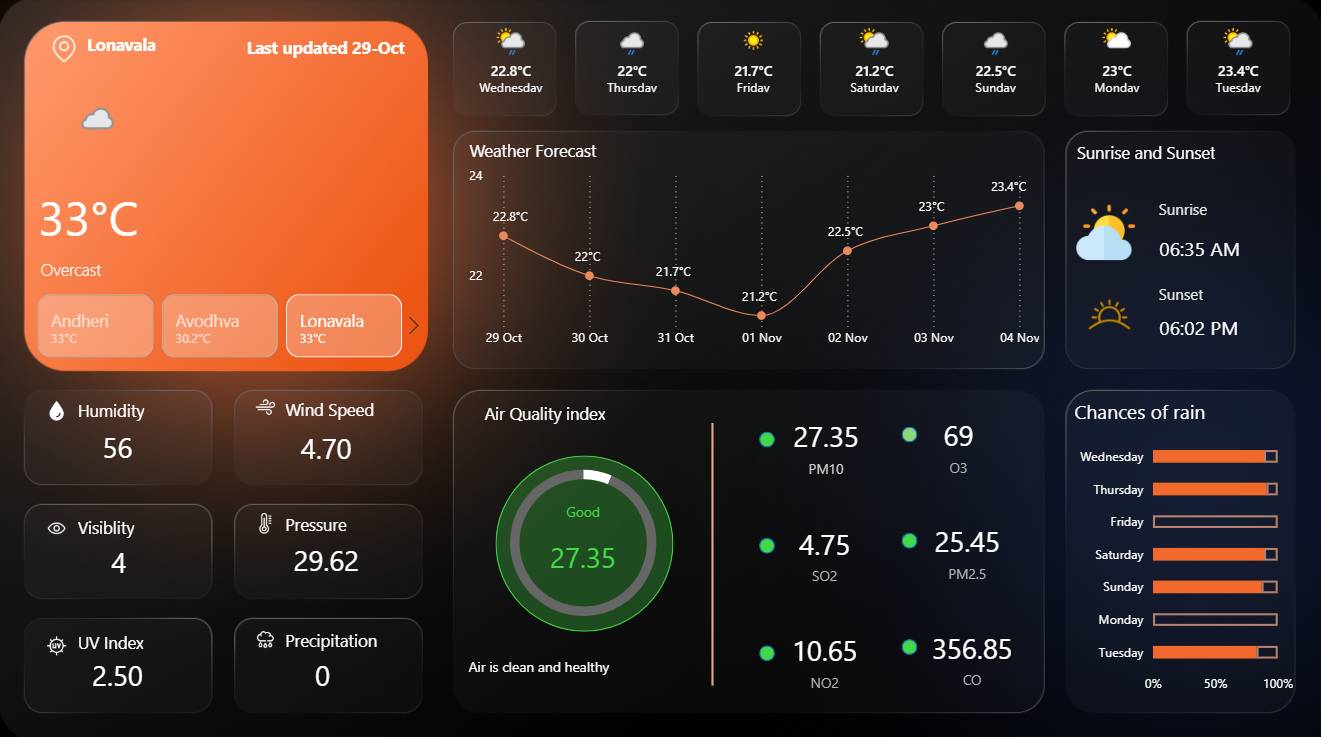

The dashboard page shown, as its layout file describes it:
{"tool":"powerbi","page":{"name":"Orange","canvas":[1280,720],"ordinal":0},"visuals":[{"type":"shape","box":[480,441.7,171.7,170],"z":0},{"type":"donutChart","fields":{"Y":["Sum(Current data.current.air_quality.pm10)","_Measures.Left_pm10"]},"box":[471.7,431.7,186.7,188.3],"z":1000},{"type":"advancedSlicerVisual","fields":{"Values":["City.location.name"]},"box":[13.3,281.7,403.3,71.7],"z":2000},{"type":"shape","box":[33.3,173.3,163.3,71.7],"z":3000},{"type":"shape","box":[38.3,248.3,371.7,33.3],"z":4000},{"type":"shape","box":[83.3,31.7,103.3,36.7],"z":5000},{"type":"shape","box":[213.3,33.3,181.7,35],"z":6000},{"type":"image","box":[45,31.7,38.3,35],"z":7000},{"type":"cardVisual","fields":{"Data":["Min(Current data.current.condition.icon)"]},"box":[11.7,76.7,123.3,120],"z":8000},{"type":"image","box":[1035,193.3,68.3,66.7],"z":9000},{"type":"image","box":[33.3,383.3,45,30],"z":10000},{"type":"image","box":[235,605,45,30],"z":11000},{"type":"image","box":[1038.3,273.3,68.3,63.3],"z":12000},{"type":"image","box":[235,492.5,45,30],"z":13000},{"type":"image","box":[33.3,610,45,30],"z":14000},{"type":"image","box":[33.3,496.7,45,30],"z":15000},{"type":"image","box":[235,380,45,30],"z":16000},{"type":"shape","box":[75,385,123.3,28.3],"z":17000},{"type":"shape","box":[275,383.3,123.3,28.3],"z":18000},{"type":"shape","box":[75,496.7,123.3,28.3],"z":19000},{"type":"shape","box":[275,495,123.3,28.3],"z":20000},{"type":"shape","box":[75,608.3,123.3,28.3],"z":21000},{"type":"shape","box":[275,606.7,123.3,28.3],"z":22000},{"type":"cardVisual","fields":{"Data":["Sum(Current data.current.humidity)"]},"box":[33.3,383.3,163.3,90],"z":23000},{"type":"cardVisual","fields":{"Data":["Sum(Current data.current.wind_kph)"]},"box":[235,385,163.3,90],"z":24000},{"type":"cardVisual","fields":{"Data":["Sum(Current data.current.vis_km)"]},"box":[35,495,163.3,90],"z":25000},{"type":"cardVisual","fields":{"Data":["Sum(Current data.current.pressure_in)"]},"box":[235,493.3,163.3,90],"z":26000},{"type":"cardVisual","fields":{"Data":["Sum(Current data.current.uv)"]},"box":[33.3,605,163.3,90],"z":27000},{"type":"cardVisual","fields":{"Data":["Sum(Current data.current.precip_in)"]},"box":[231.7,605,163.3,90],"z":28000},{"type":"advancedSlicerVisual","fields":{"Values":["Forcast Day.Day_Forcast"]},"box":[435,18.3,823.3,91.7],"z":29000},{"type":"lineChart","title":"Weather Forecast","fields":{"Y":["Sum(Forcast Day.forecast.forecastday.day.avgtemp_c)"],"Category":["Forcast Day.forecast.forecastday.date.Variation.Date Hierarchy.Day"]},"box":[450,136.7,560,210],"z":30000},{"type":"shape","box":[1118.3,226.7,140,33.3],"z":31000},{"type":"shape","box":[1118.3,303.3,140,33],"z":32000},{"type":"shape","box":[1038.3,135,191.7,35],"z":33000},{"type":"shape","box":[1118.3,273.3,140,25],"z":34000},{"type":"shape","box":[1118.3,191.7,140,25],"z":35000},{"type":"hundredPercentStackedBarChart","title":"Chances of rain","fields":{"Y":["Sum(Forcast Day.forecast.forecastday.day.daily_chance_of_rain)","_Measures.Left_Chances_Rain"],"Category":["Forcast Day.Day_Forcast"]},"box":[1034.3,386.4,221.4,294.3],"z":36000},{"type":"card","fields":{"Values":["Sum(Current data.current.air_quality.o3)"]},"box":[875,391.7,105,80],"z":37000},{"type":"card","fields":{"Values":["Sum(Current data.current.air_quality.pm10)"]},"box":[746.7,393.3,105,80],"z":38000},{"type":"card","fields":{"Values":["Sum(Current data.current.air_quality.so2)"]},"box":[745,497.5,105,80],"z":39000},{"type":"card","fields":{"Values":["Sum(Current data.current.air_quality.pm2_5)"]},"box":[883.3,495,105,80],"z":40000},{"type":"card","fields":{"Values":["Sum(Current data.current.air_quality.co)"]},"box":[888.3,596.7,105,80],"z":41000},{"type":"card","fields":{"Values":["Sum(Current data.current.air_quality.no2)"]},"box":[745,600,105,80],"z":42000},{"type":"shape","box":[735,418.3,15,15],"z":43000},{"type":"shape","box":[735,521.7,15,15],"z":44000},{"type":"shape","box":[735,625,15,15],"z":45000},{"type":"shape","box":[871.7,413.3,15,15],"z":46000},{"type":"shape","box":[871.7,516.4,15,15],"z":47000},{"type":"shape","box":[871.7,619.4,15,15],"z":48000},{"type":"shape","box":[670,410,40,253.3],"z":49000},{"type":"shape","box":[466.7,386.7,191.7,35],"z":50000},{"type":"card","fields":{"Values":["Sum(Current data.current.air_quality.pm10)"]},"box":[516.7,486.7,96.7,91.7],"z":51000},{"type":"shape","box":[450,631.7,240,55],"z":52000}]}

Visuals, with their boxes in screenshot pixels (x1, y1, x2, y2), scaled from the page's 1280x720 canvas onto the 1321x737 screenshot:
shape: left=495, top=452, right=673, bottom=626
donutChart - Sum(Current data.current.air_quality.pm10) x _Measures.Left_pm10: left=487, top=442, right=679, bottom=635
advancedSlicerVisual - City.location.name: left=14, top=288, right=430, bottom=362
shape: left=34, top=177, right=203, bottom=251
shape: left=40, top=254, right=423, bottom=288
shape: left=86, top=32, right=193, bottom=70
shape: left=220, top=34, right=408, bottom=70
image: left=46, top=32, right=86, bottom=68
cardVisual - Min(Current data.current.condition.icon): left=12, top=79, right=139, bottom=201
image: left=1068, top=198, right=1139, bottom=266
image: left=34, top=392, right=81, bottom=423
image: left=243, top=619, right=289, bottom=650
image: left=1072, top=280, right=1142, bottom=345
image: left=243, top=504, right=289, bottom=535
image: left=34, top=624, right=81, bottom=655
image: left=34, top=508, right=81, bottom=539
image: left=243, top=389, right=289, bottom=420
shape: left=77, top=394, right=205, bottom=423
shape: left=284, top=392, right=411, bottom=421
shape: left=77, top=508, right=205, bottom=537
shape: left=284, top=507, right=411, bottom=536
shape: left=77, top=623, right=205, bottom=652
shape: left=284, top=621, right=411, bottom=650
cardVisual - Sum(Current data.current.humidity): left=34, top=392, right=203, bottom=484
cardVisual - Sum(Current data.current.wind_kph): left=243, top=394, right=411, bottom=486
cardVisual - Sum(Current data.current.vis_km): left=36, top=507, right=205, bottom=599
cardVisual - Sum(Current data.current.pressure_in): left=243, top=505, right=411, bottom=597
cardVisual - Sum(Current data.current.uv): left=34, top=619, right=203, bottom=711
cardVisual - Sum(Current data.current.precip_in): left=239, top=619, right=408, bottom=711
advancedSlicerVisual - Forcast Day.Day_Forcast: left=449, top=19, right=1299, bottom=113
"Weather Forecast" lineChart: left=464, top=140, right=1042, bottom=355
shape: left=1154, top=232, right=1299, bottom=266
shape: left=1154, top=310, right=1299, bottom=344
shape: left=1072, top=138, right=1269, bottom=174
shape: left=1154, top=280, right=1299, bottom=305
shape: left=1154, top=196, right=1299, bottom=222
"Chances of rain" hundredPercentStackedBarChart: left=1067, top=396, right=1296, bottom=697
card - Sum(Current data.current.air_quality.o3): left=903, top=401, right=1011, bottom=483
card - Sum(Current data.current.air_quality.pm10): left=771, top=403, right=879, bottom=484
card - Sum(Current data.current.air_quality.so2): left=769, top=509, right=877, bottom=591
card - Sum(Current data.current.air_quality.pm2_5): left=912, top=507, right=1020, bottom=589
card - Sum(Current data.current.air_quality.co): left=917, top=611, right=1025, bottom=693
card - Sum(Current data.current.air_quality.no2): left=769, top=614, right=877, bottom=696
shape: left=759, top=428, right=774, bottom=444
shape: left=759, top=534, right=774, bottom=549
shape: left=759, top=640, right=774, bottom=655
shape: left=900, top=423, right=915, bottom=438
shape: left=900, top=529, right=915, bottom=544
shape: left=900, top=634, right=915, bottom=649
shape: left=691, top=420, right=733, bottom=679
shape: left=482, top=396, right=679, bottom=432
card - Sum(Current data.current.air_quality.pm10): left=533, top=498, right=633, bottom=592
shape: left=464, top=647, right=712, bottom=703
